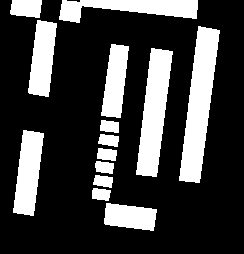parkingspot: (179, 26, 219, 182), (136, 48, 172, 176), (13, 130, 43, 215), (28, 20, 56, 96), (79, 0, 197, 18), (101, 44, 128, 117), (104, 203, 156, 230), (10, 0, 41, 17), (59, 0, 81, 22), (98, 134, 118, 146), (97, 148, 116, 160), (93, 175, 112, 187), (100, 120, 118, 132), (92, 188, 110, 200), (95, 161, 113, 173)
